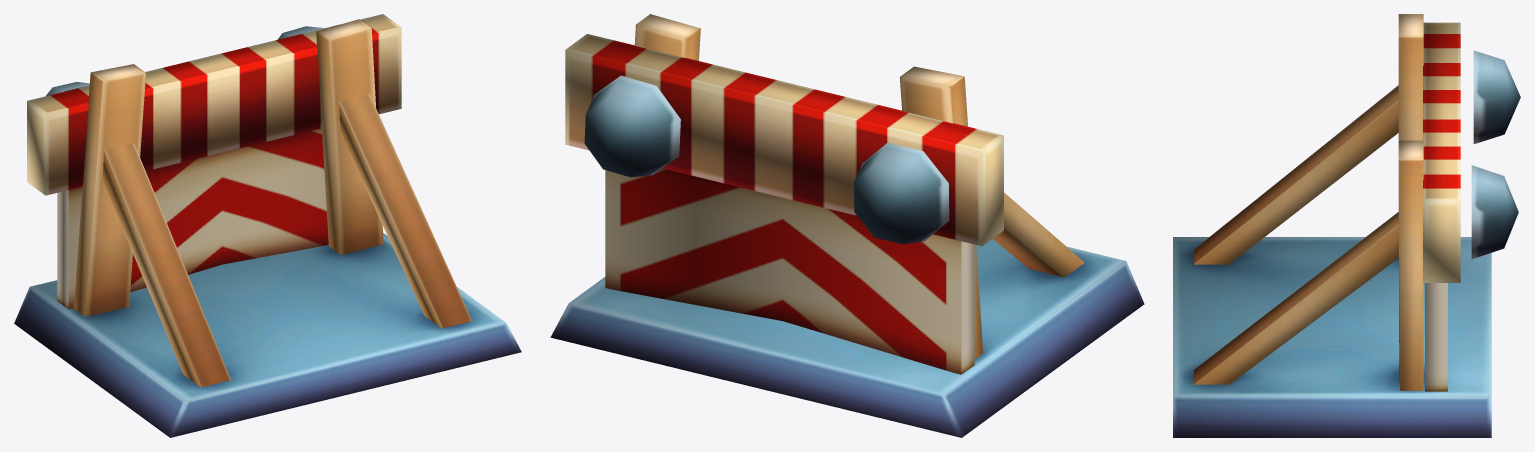
Rendered from Jump.fbx.
3 renders of one model, left to right at view 1: azimuth 30°, elevation 25°; view 2: azimuth 150°, elevation 25°; view 3: azimuth 270°, elevation 25°, orthographic. The views are drawn at different scales.
Parts seen in each view (by area): view 1: blocker_jump_obj; view 2: blocker_jump_obj; view 3: blocker_jump_obj.
Part boxes in pixels (x1,y1,x2,y2): blocker_jump_obj: [14, 14, 521, 437]; blocker_jump_obj: [550, 14, 1144, 437]; blocker_jump_obj: [1173, 14, 1520, 437].
Size of the model in its own units: 1883 by 1339 by 1561.
Materials: 1 (1 with a texture image).
